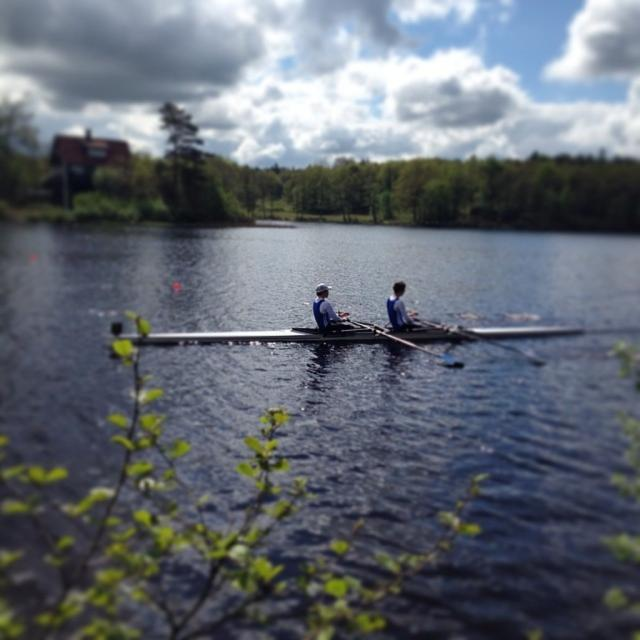Boat: (119, 321, 584, 342)
